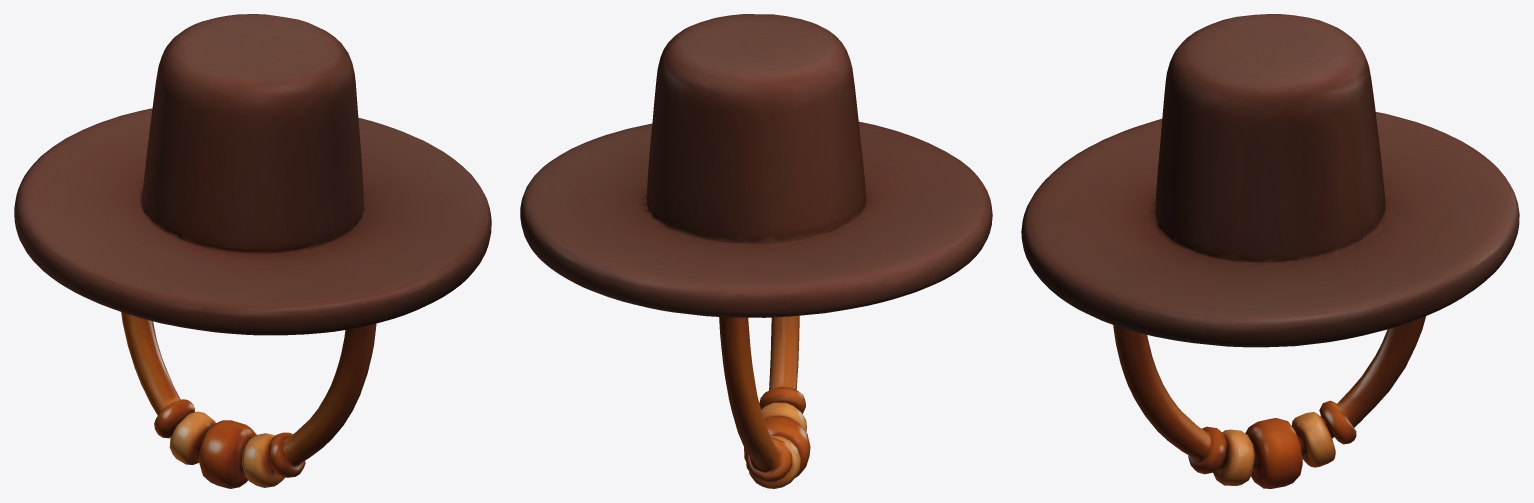
The model's file is cs-gat.glb.
The picture shows the model from 3 angles, left to right: view 1: azimuth 30°, elevation 25°; view 2: azimuth 150°, elevation 25°; view 3: azimuth 270°, elevation 25°; orthographic projection. The views are drawn at different scales.
Visible parts, largest first — view 1: tripo_node_828b3e87-7733-47a2-b1b3-b2376724d324; view 2: tripo_node_828b3e87-7733-47a2-b1b3-b2376724d324; view 3: tripo_node_828b3e87-7733-47a2-b1b3-b2376724d324.
Part boxes in pixels (x1,y1,x2,y2): tripo_node_828b3e87-7733-47a2-b1b3-b2376724d324: [14, 14, 491, 488]; tripo_node_828b3e87-7733-47a2-b1b3-b2376724d324: [520, 14, 992, 488]; tripo_node_828b3e87-7733-47a2-b1b3-b2376724d324: [1021, 14, 1519, 488].
Bounding box in the file's own units: 0.9964 × 1 × 0.9962.
1 material, 1 textured.
